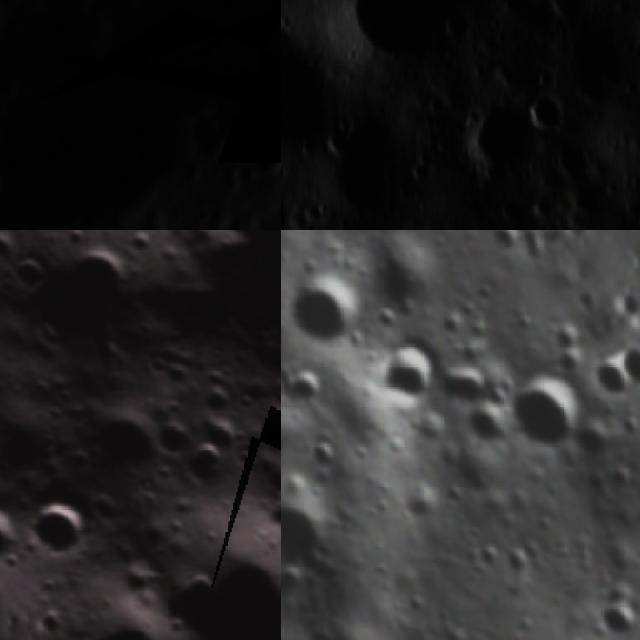crater: (483, 354, 598, 464), (53, 566, 219, 640), (5, 473, 114, 582), (333, 0, 493, 68), (70, 394, 173, 496), (42, 230, 148, 329), (281, 263, 375, 366), (356, 327, 453, 419), (281, 466, 339, 580), (458, 101, 538, 182), (167, 428, 244, 504), (426, 350, 505, 424), (281, 52, 333, 149), (578, 350, 639, 420), (281, 350, 329, 419), (0, 496, 36, 573), (2, 249, 55, 301), (518, 88, 568, 137), (537, 314, 586, 363), (588, 594, 640, 640), (256, 480, 281, 551), (440, 10, 476, 44), (547, 0, 587, 23), (627, 613, 640, 640)
